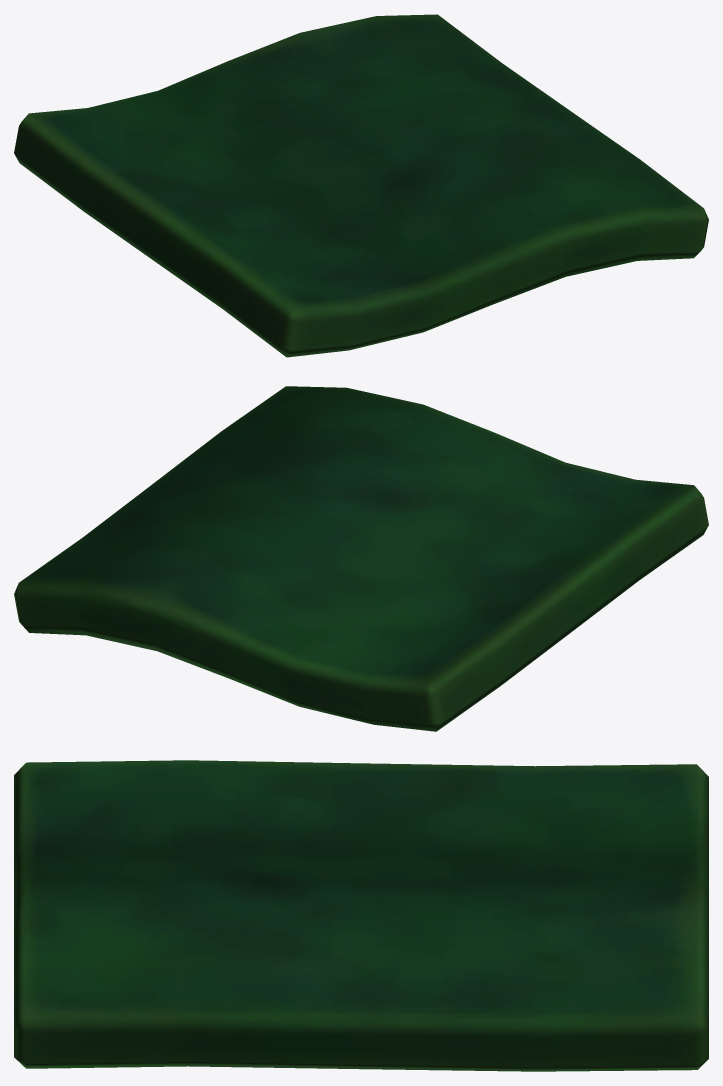
File: Seaweed.fbx
3 renders of one model, top to bottom at view 1: azimuth 30°, elevation 25°; view 2: azimuth 150°, elevation 25°; view 3: azimuth 270°, elevation 25°, orthographic. The views are drawn at different scales.
Parts seen in each view (by area): view 1: Sushi_Seaweed; view 2: Sushi_Seaweed; view 3: Sushi_Seaweed.
Part boxes in pixels (x1=…): Sushi_Seaweed: x1=14, y1=14, x2=708, y2=357; Sushi_Seaweed: x1=14, y1=386, x2=708, y2=731; Sushi_Seaweed: x1=14, y1=760, x2=708, y2=1071.
Bounding box in the file's own units: 64.31 × 10.79 × 71.8.
